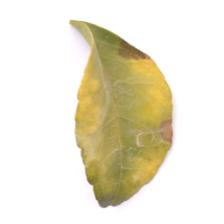black spot: (113, 25, 164, 83)
